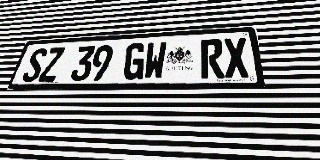3: (69, 45, 96, 81)
9: (88, 44, 114, 81)
G: (122, 43, 146, 80)
R: (201, 39, 225, 78)
S: (21, 48, 49, 82)
W: (143, 42, 167, 80)
X: (223, 37, 250, 78)
Z: (38, 47, 65, 82)
